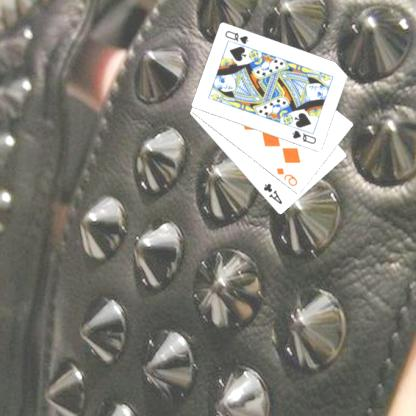9D: (276, 165, 300, 188)
AC: (262, 180, 286, 206)
QS: (291, 127, 320, 146), (224, 28, 252, 46)
